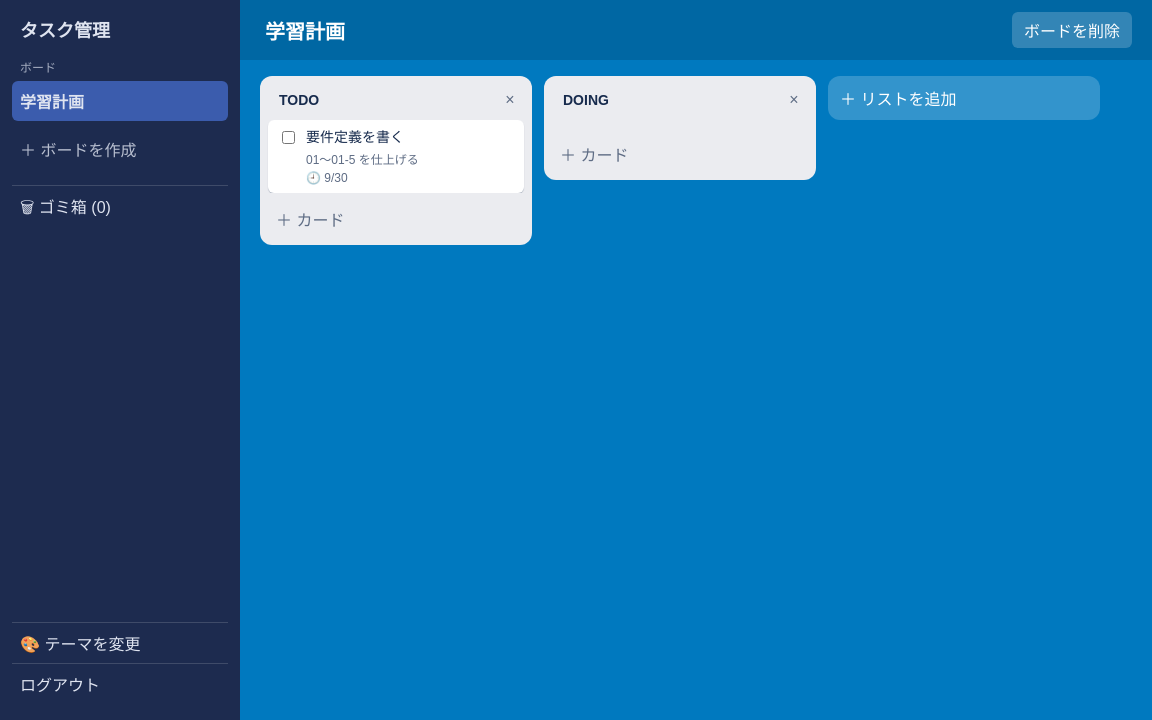
Test: カードのその場編集（05 画面設計書 4.5） › カードを押すと編集状態になり、今の値が入っている
Click the button with aria-label "要件定義を書く を編集": (395, 156) [306, 128, 484, 185]
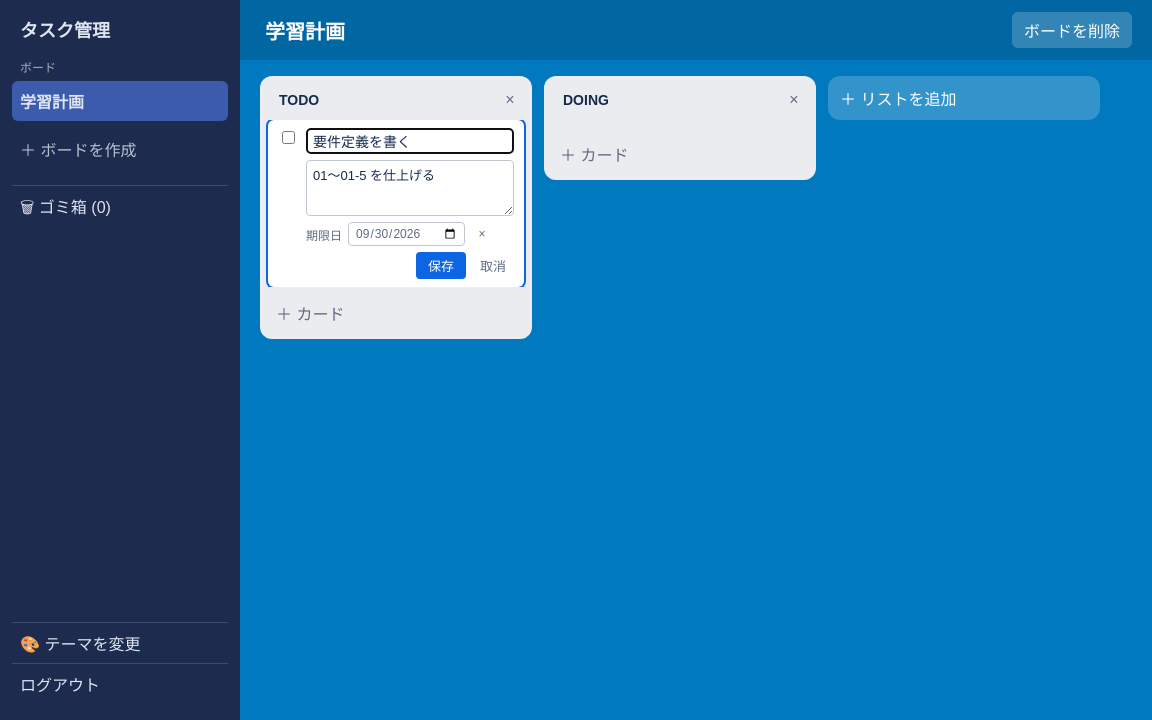
Now the field named "カードのタイトル" holds "要件定義を書く", box [306, 128, 514, 154]
Now the text box named "説明文" holds "01〜01-5 を仕上げる", box [306, 160, 514, 216]
Now the date field labelled "期限日" holds "2026-09-30", box [348, 222, 465, 246]
